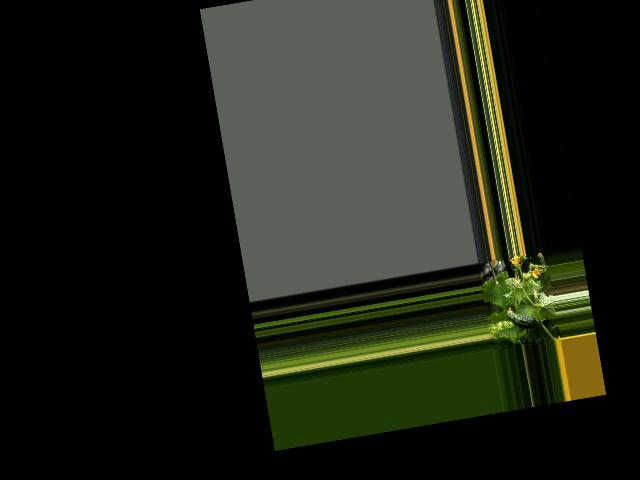cucumber: (505, 302, 537, 331)
